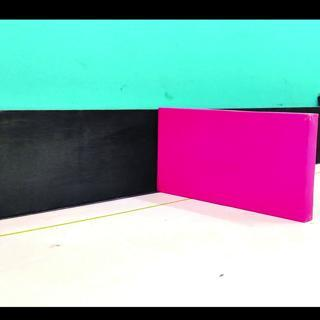xparking: (162, 118, 310, 221)
